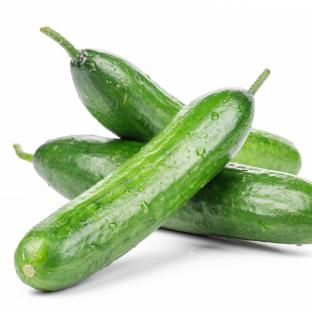Cucumber: (15, 89, 253, 290), (41, 27, 184, 142), (163, 164, 311, 243), (34, 136, 143, 199), (231, 130, 301, 174)
